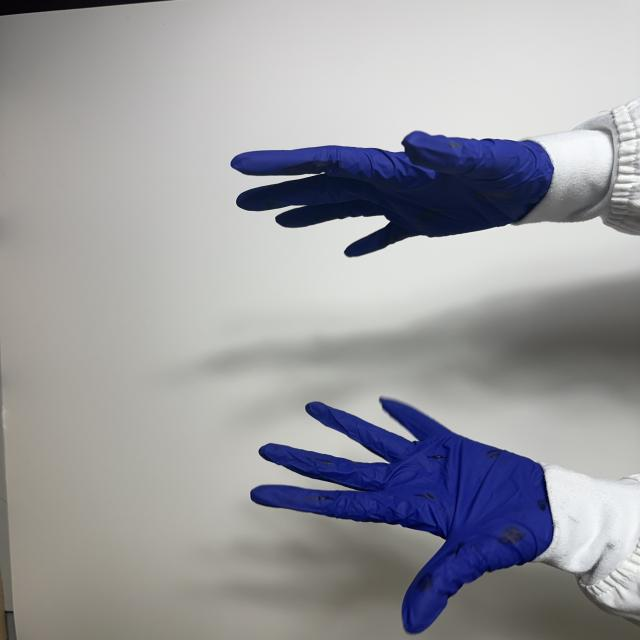gloves_contaminated: (252, 399, 554, 633), (231, 132, 554, 256)
